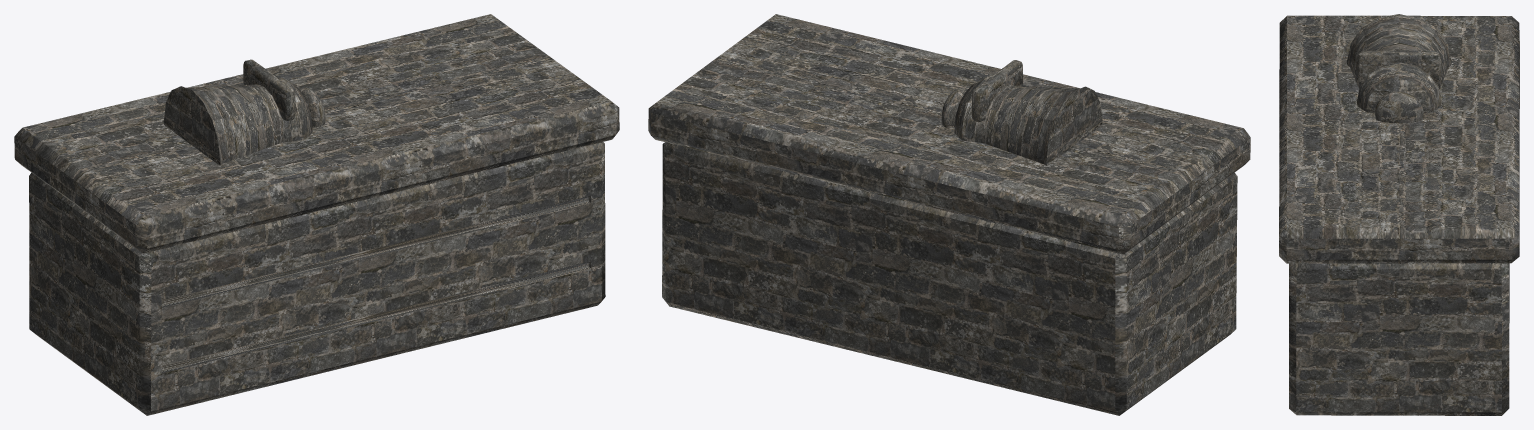
File: sarcophagus-v01.glb
3 views of the same model, side by side, from view 1: azimuth 30°, elevation 25°; view 2: azimuth 150°, elevation 25°; view 3: azimuth 270°, elevation 25° (orthographic). The views are drawn at different scales.
Visible parts, largest first — view 1: sarcophagus; view 2: sarcophagus; view 3: sarcophagus.
Boxes of the visible parts, <box> form: sarcophagus: <box>14,14,619,415</box>; sarcophagus: <box>648,14,1250,415</box>; sarcophagus: <box>1279,14,1519,415</box>.
Bounding box in the file's own units: 2.71 × 1.4 × 1.25.
1 material, 1 textured.
